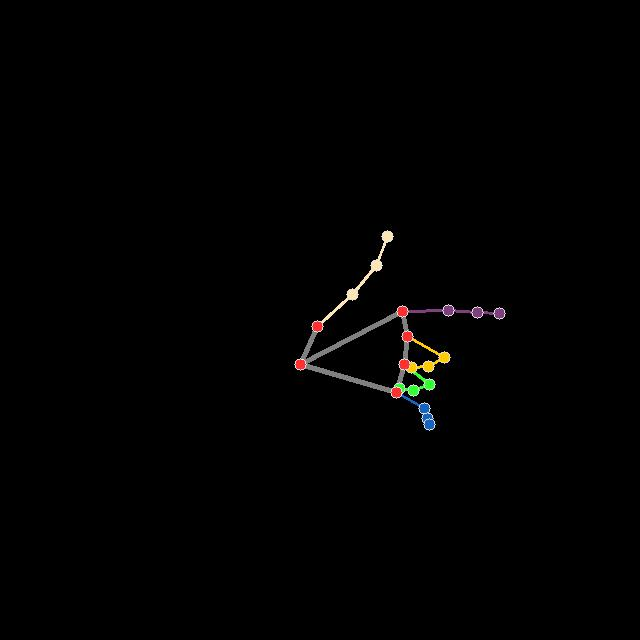spiderman: (297, 231, 505, 432)
